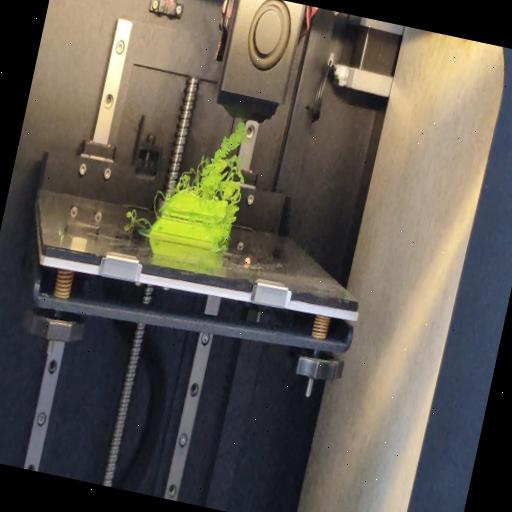spaghetti: (170, 110, 256, 207), (217, 206, 238, 251), (122, 207, 154, 231), (151, 189, 167, 218)
